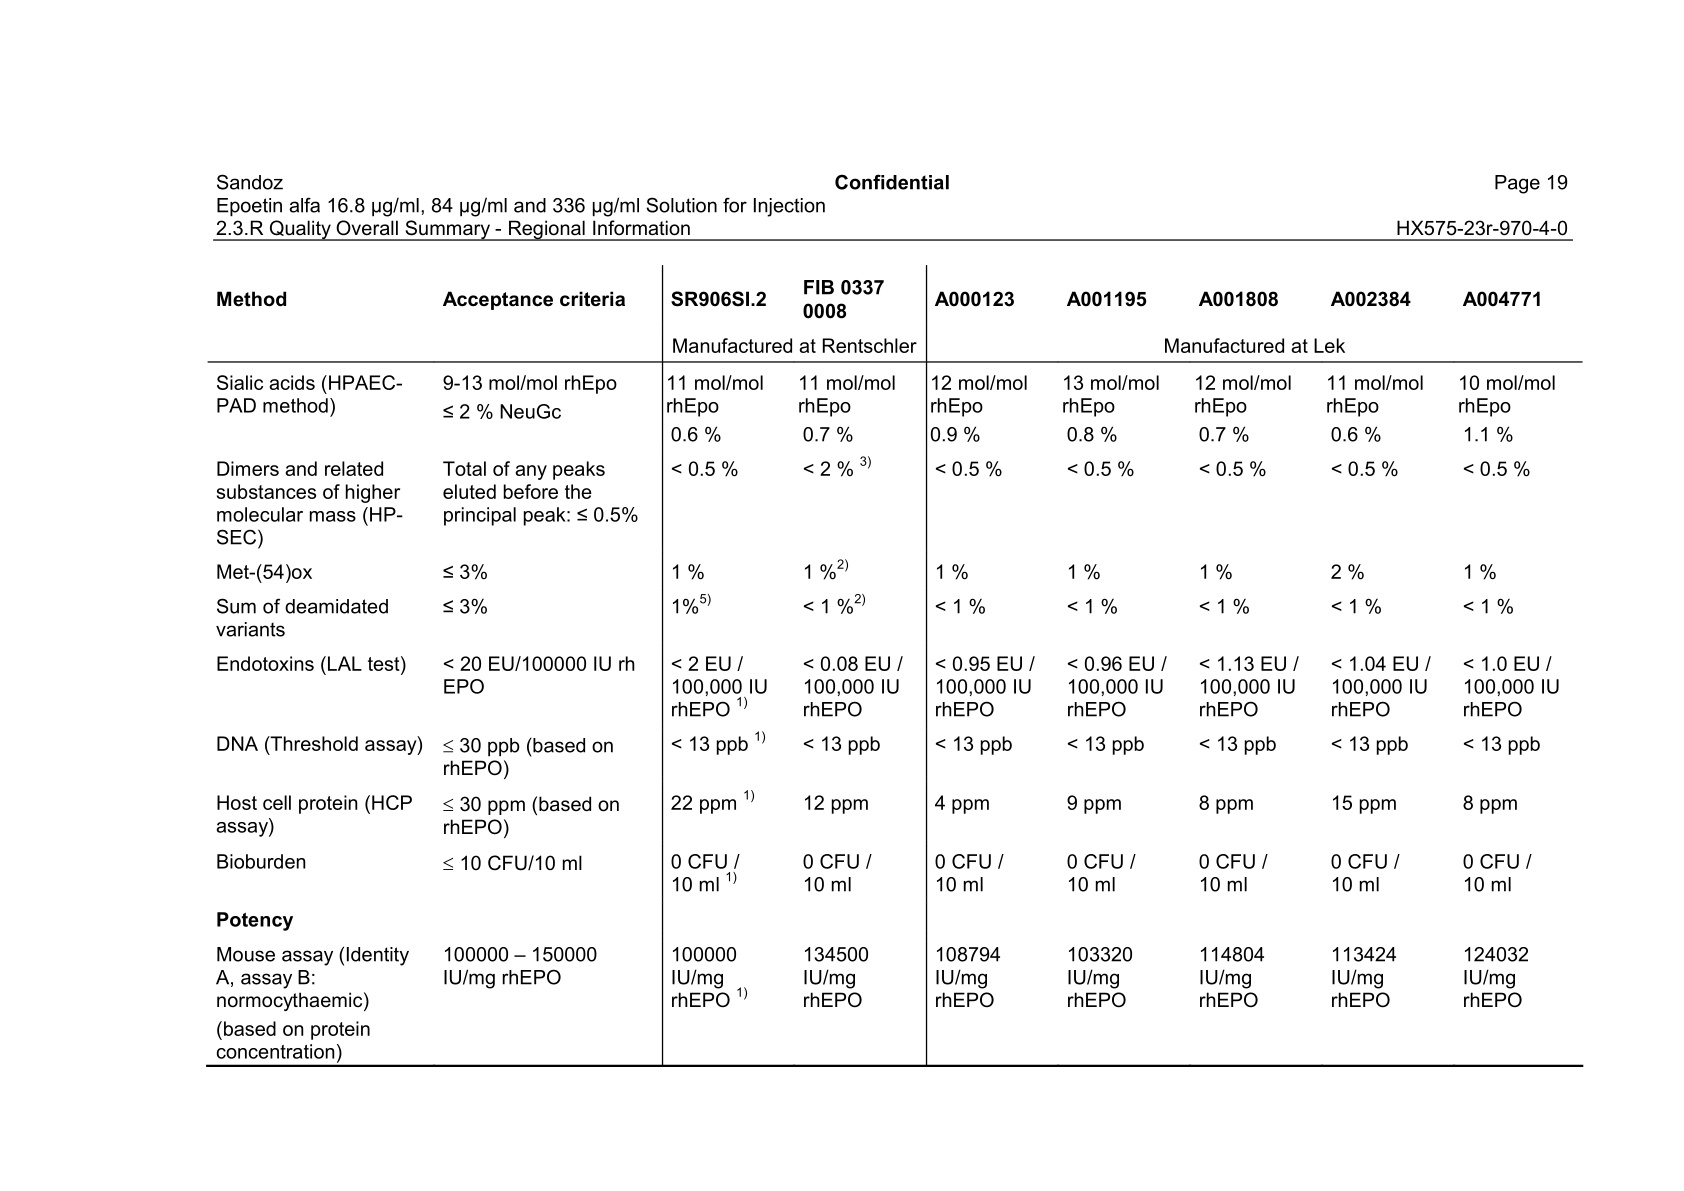partial_lined_merged_cells: (205, 262, 1584, 1067)
